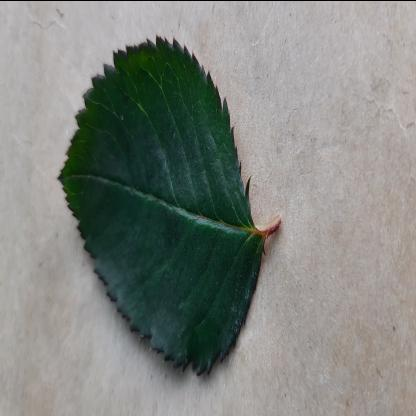normal: (56, 27, 258, 382)
